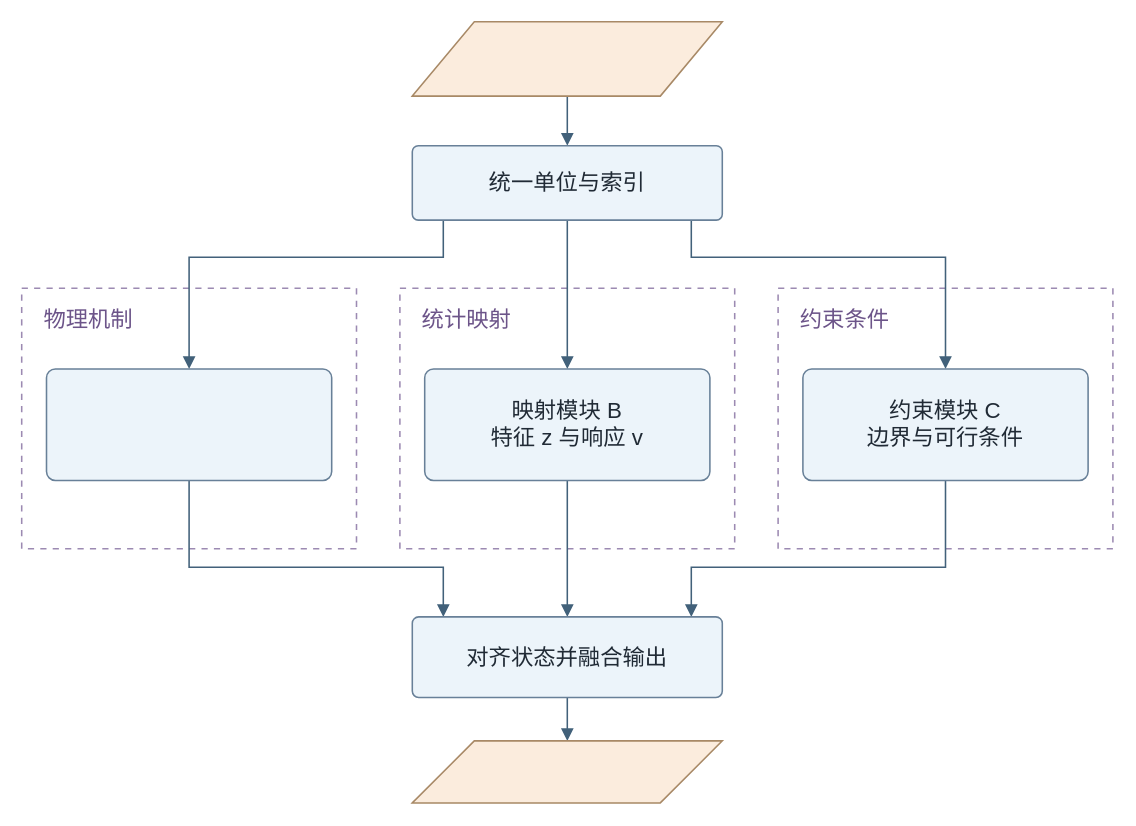
The diagram is 1136 pixels wide and 826 high, and some of its shapes have lost their labels. Each missing label, with the centre of its shape:
"机制模块 A 状态 u 与参数 θ" belongs at pixel 188 424.
"综合响应与解释" belongs at pixel 567 771.
"输入与共享状态" belongs at pixel 567 58.
